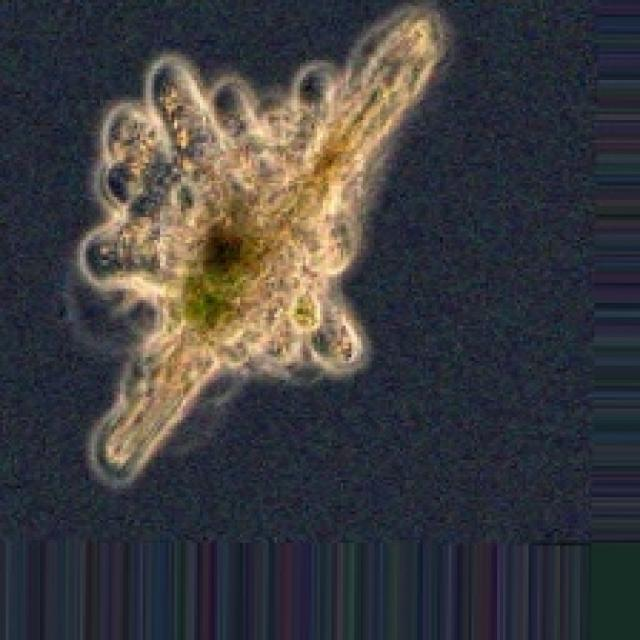Amoeba: (59, 0, 454, 491)
